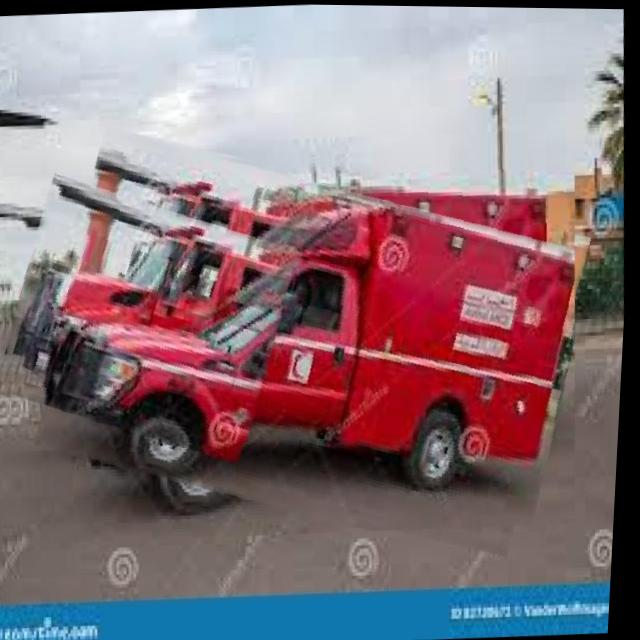ambulance: (24, 131, 596, 550), (0, 178, 297, 455)
